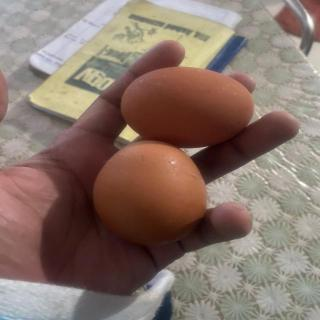Telur: (93, 141, 211, 249), (122, 65, 261, 149)
